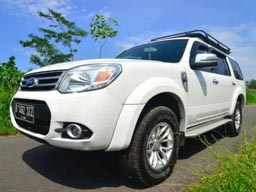plat: (13, 103, 35, 123)
